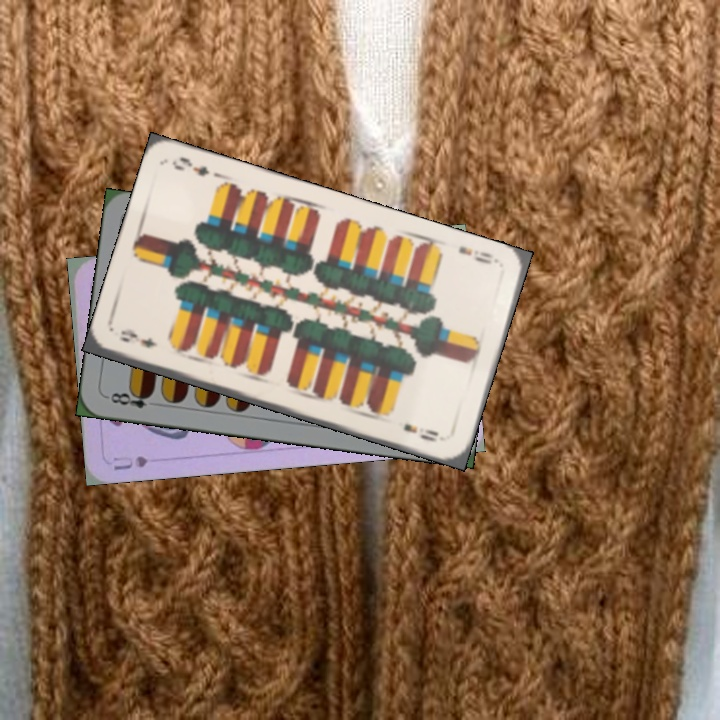E8: (103, 386, 155, 411)
E9: (454, 242, 502, 269), (116, 326, 161, 351)
SU: (109, 451, 150, 473)
